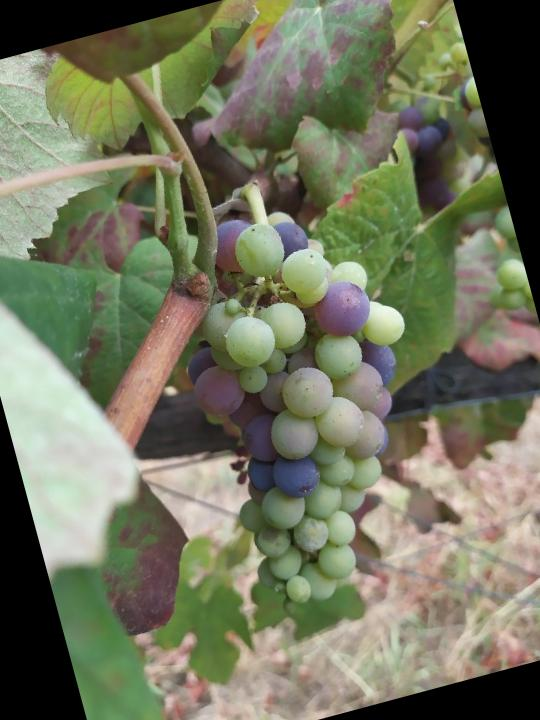grape: (149, 182, 473, 621)
